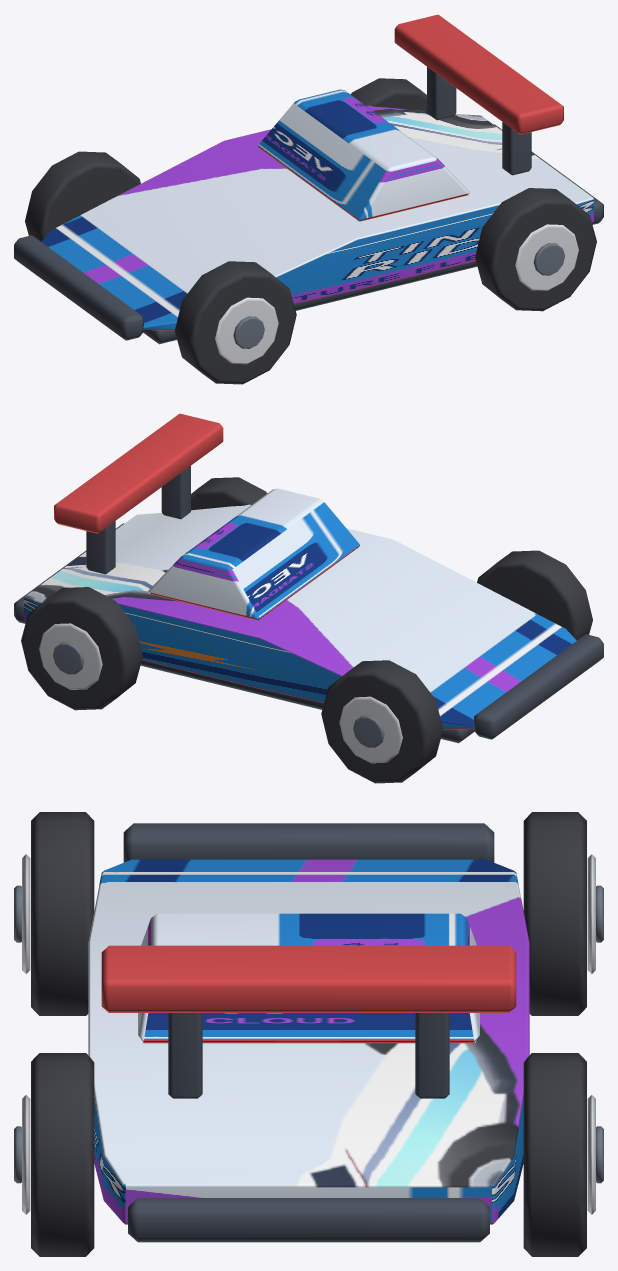
3 renders of one model, top to bottom at view 1: azimuth 30°, elevation 25°; view 2: azimuth 150°, elevation 25°; view 3: azimuth 270°, elevation 25°, orthographic. The views are drawn at different scales.
Visible parts, largest first — view 1: FF-05_connected_shell, FF-05_cabin, rear airfoil, Tire.002, Tire, Tire.001, front bumper, Rim.002, Rim, Tire.003, underbody, wing support (+3 smaller); view 2: FF-05_connected_shell, FF-05_cabin, rear airfoil, Tire.003, Tire.001, Tire, front bumper, Rim.003, Rim.001, Tire.002, underbody, wing support.001 (+3 smaller); view 3: FF-05_connected_shell, rear airfoil, FF-05_cabin, rear bumper, front bumper, Tire.002, Tire.003, Tire, Tire.001, wing support, wing support.001, Rim (+3 smaller).
Part boxes in pixels (x1,y1,x2,y2): FF-05_connected_shell: (41,105,593,330); FF-05_cabin: (258,89,469,221); rear airfoil: (394,14,563,134); Tire.002: (475,188,596,311); Tire: (175,261,296,384); Tire.001: (25,151,140,241); front bumper: (14,235,143,340); Rim.002: (515,224,578,290); Rim: (215,297,278,364); Tire.003: (350,78,426,111); underbody: (143,261,477,344); wing support: (502,122,531,175); FF-05_connected_shell: (24,504,576,729); FF-05_cabin: (148,488,359,620); rear airfoil: (54,413,223,533); Tire.003: (21,587,142,710); Tire.001: (321,660,442,783); Tire: (477,550,592,640); front bumper: (474,634,603,739); Rim.003: (39,623,102,689); Rim.001: (339,696,402,763); Tire.002: (191,477,267,510); underbody: (140,660,474,743); wing support.001: (86,521,115,574); FF-05_connected_shell: (88,859,529,1224); rear airfoil: (101,945,516,1012); FF-05_cabin: (138,913,479,1043); rear bumper: (128,1198,489,1242); front bumper: (123,823,494,862); Tire.002: (31,1053,94,1256); Tire.003: (523,1053,586,1256); Tire: (31,812,94,1015); Tire.001: (523,812,586,1015); wing support: (168,1013,202,1098); wing support.001: (415,1013,449,1098); Rim: (22,854,30,973).
Size of the model in its own units: 377 by 136 by 242.
